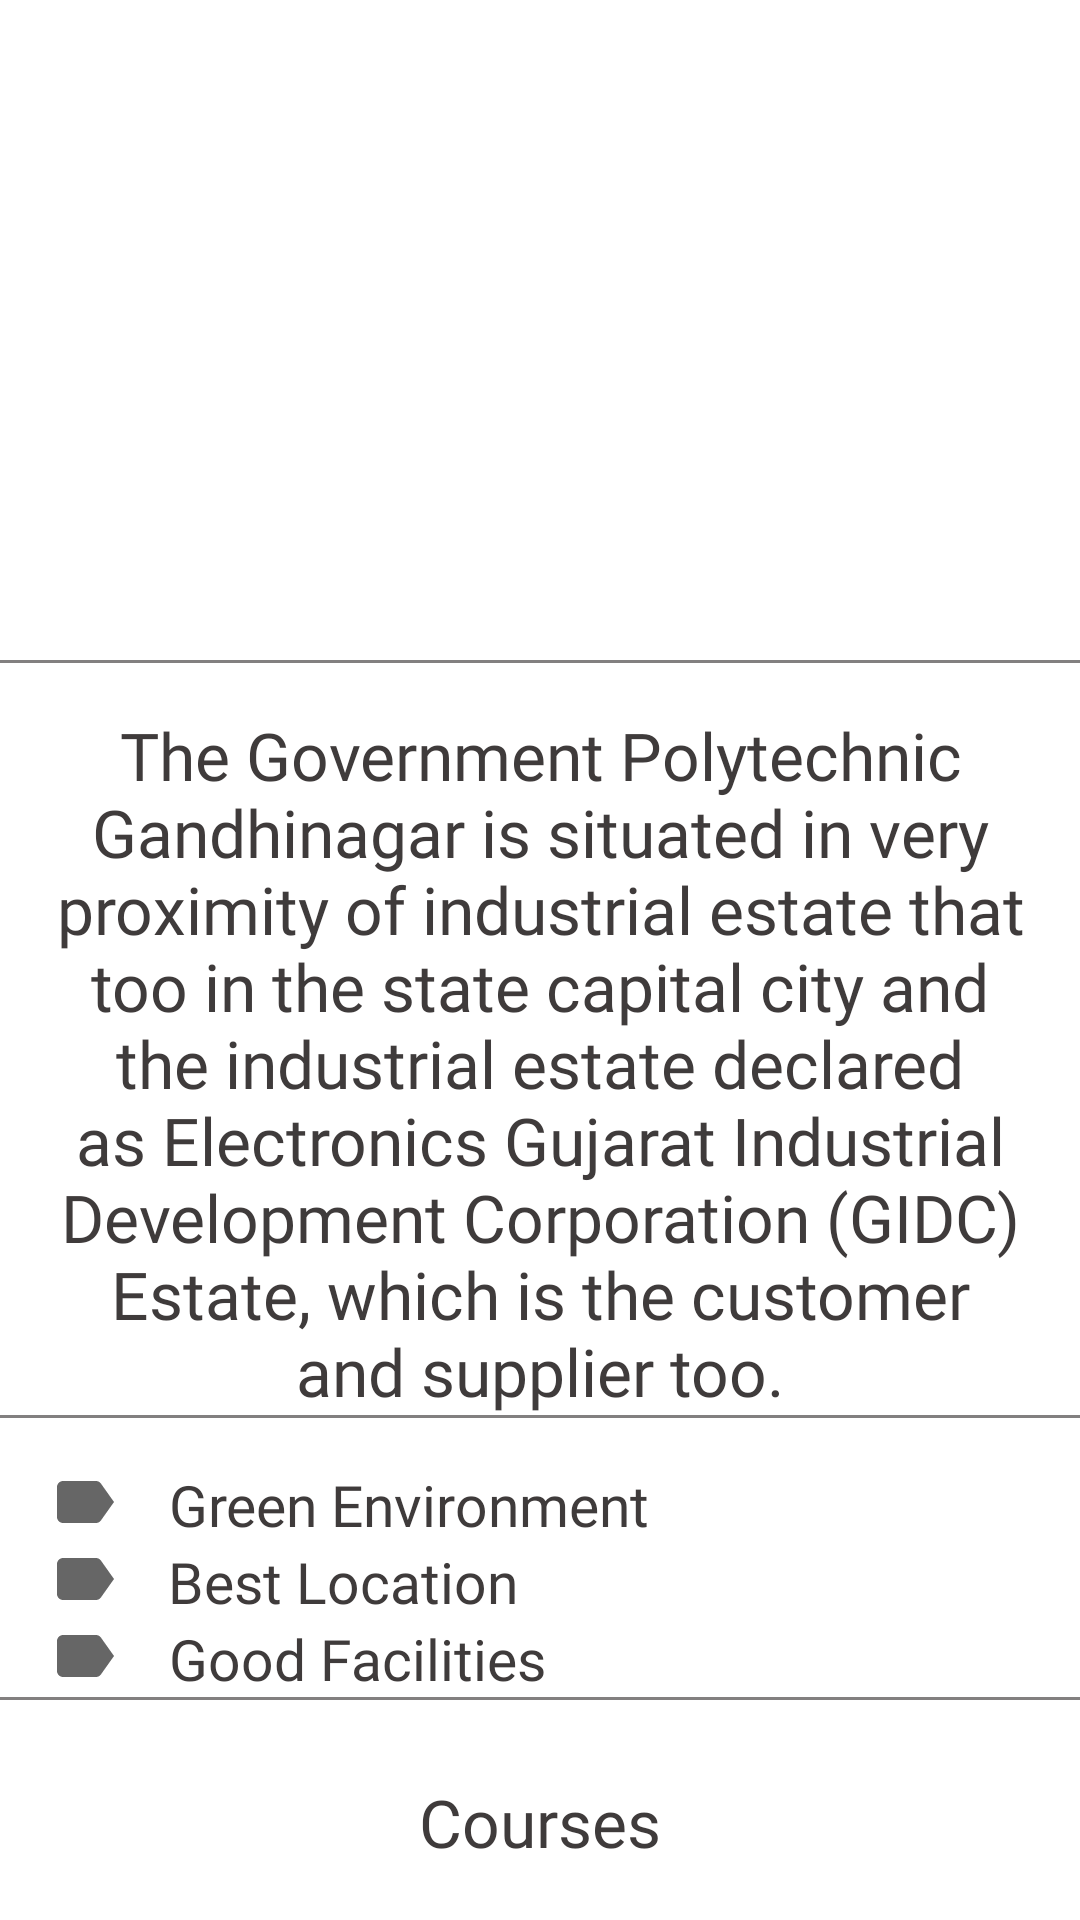

Icons on this 1080 x 1920 Android screen, each with the point to tap as point (x, y):
label: point (85, 1502), point (85, 1579), point (85, 1656)
